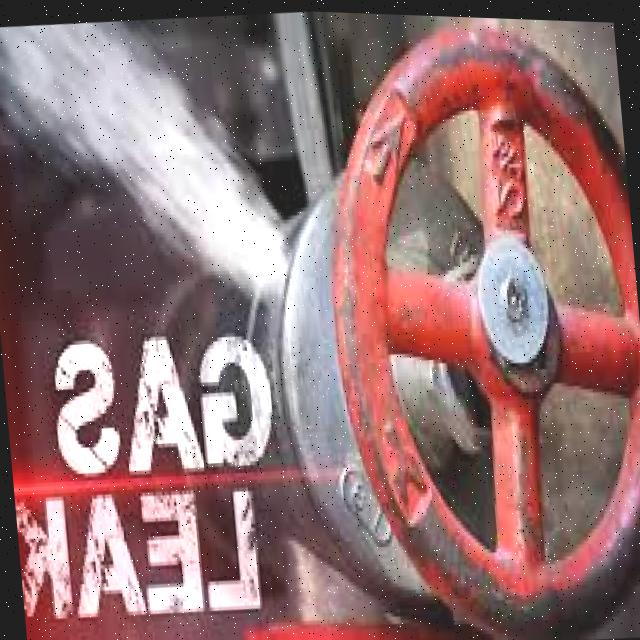corrosion: (181, 173, 347, 478)
